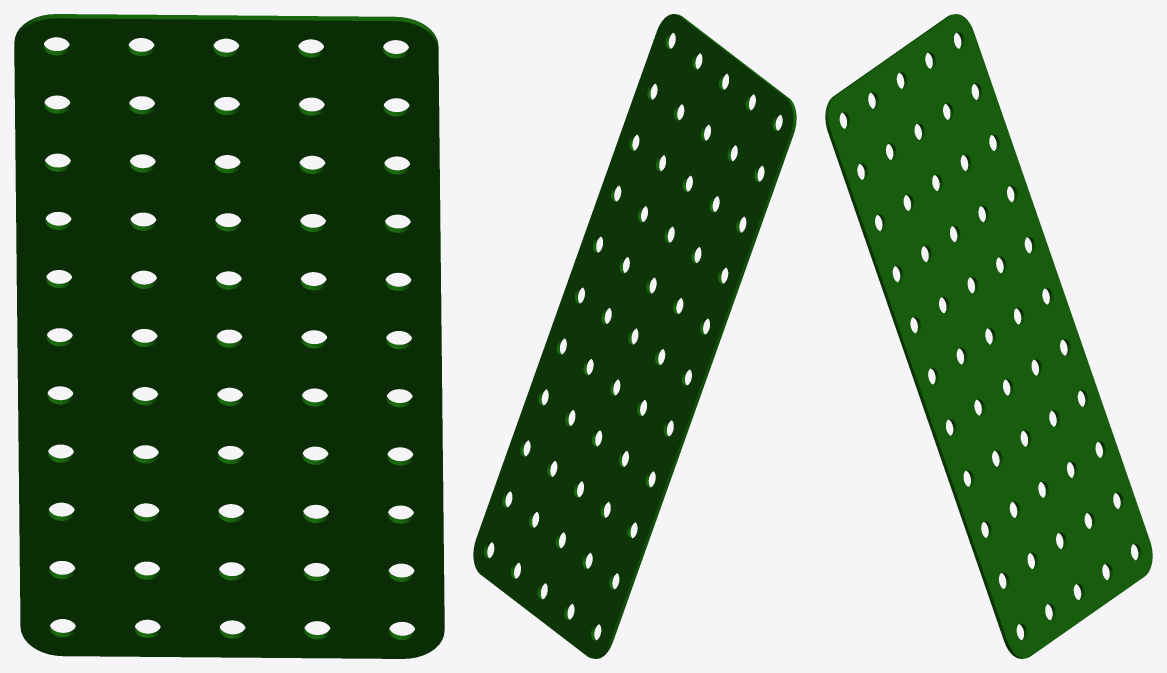
File: TamPhang_5x11.glb
3 views of the same model, side by side, from view 1: azimuth 30°, elevation 25°; view 2: azimuth 150°, elevation 25°; view 3: azimuth 270°, elevation 25° (orthographic). The views are drawn at different scales.
Parts seen in each view (by area): view 1: defaultobject.001; view 2: defaultobject.001; view 3: defaultobject.001.
Boxes of the visible parts, x1,y1,x2,y2 form: defaultobject.001: (14,14,444,658); defaultobject.001: (473,14,796,658); defaultobject.001: (825,14,1152,658).
Size of the model in its own units: 198 by 324 by 187.
